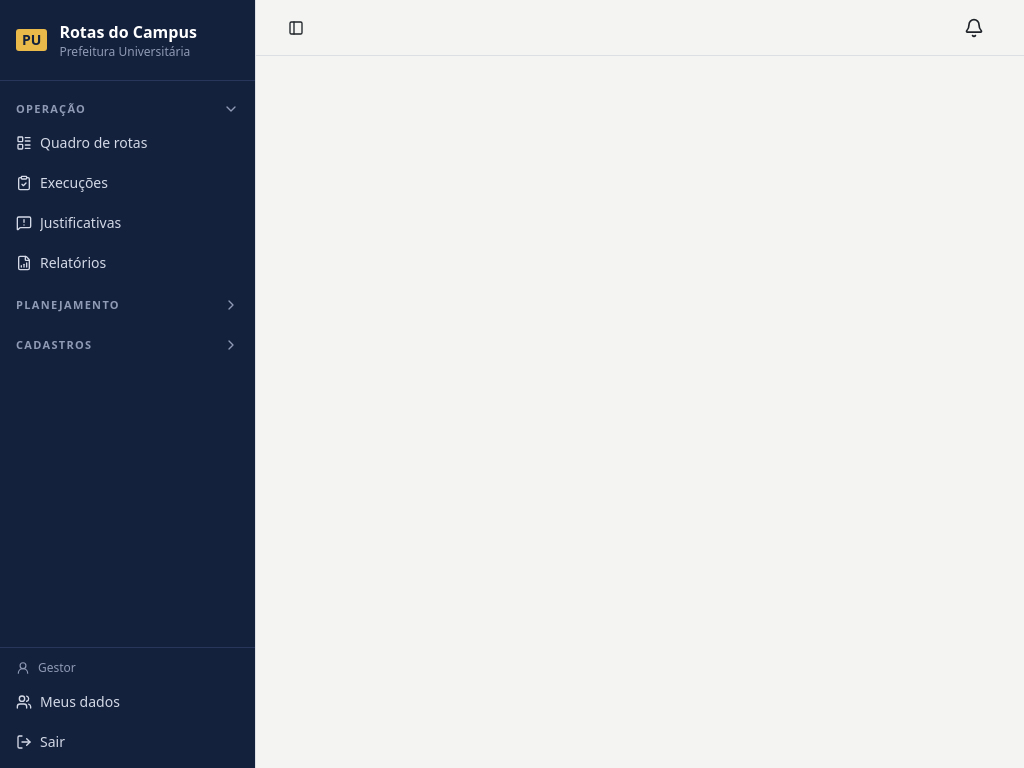
AppShell navigation › shows the alert-rules link for a manager but not for a field worker
The width and height of the screenshot is (1024, 768).
Click the button "Planejamento" at point(128, 305), box [8,289,247,321]
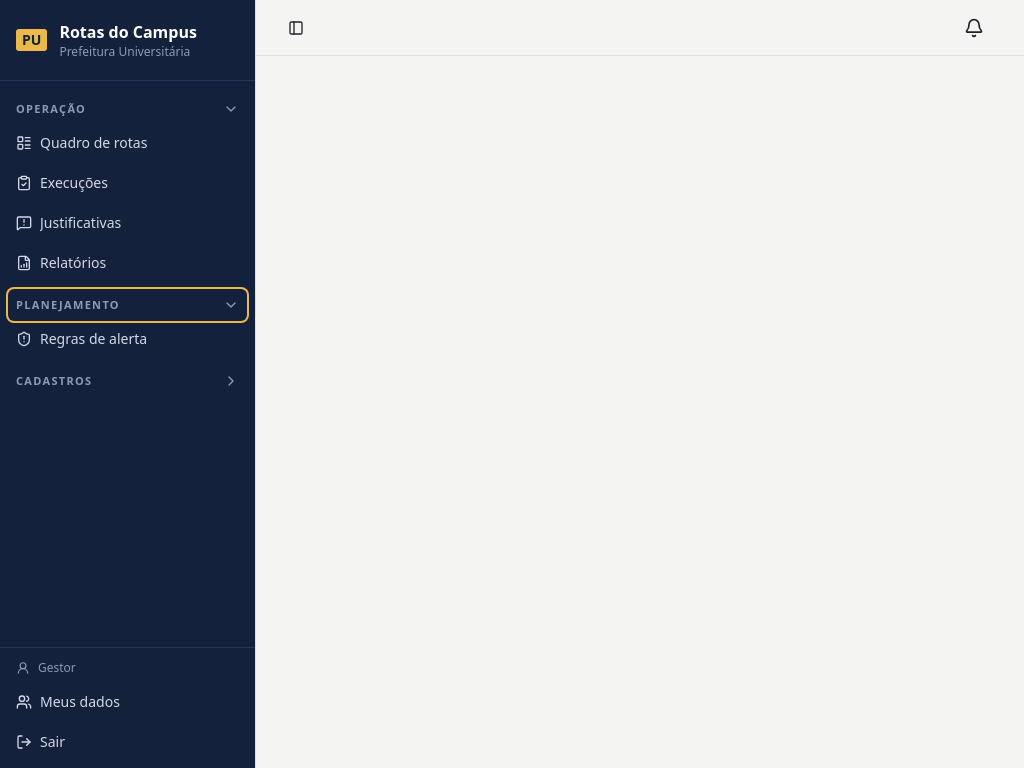
Now the link "Regras de alerta" is shown, box [16,329,147,348]
